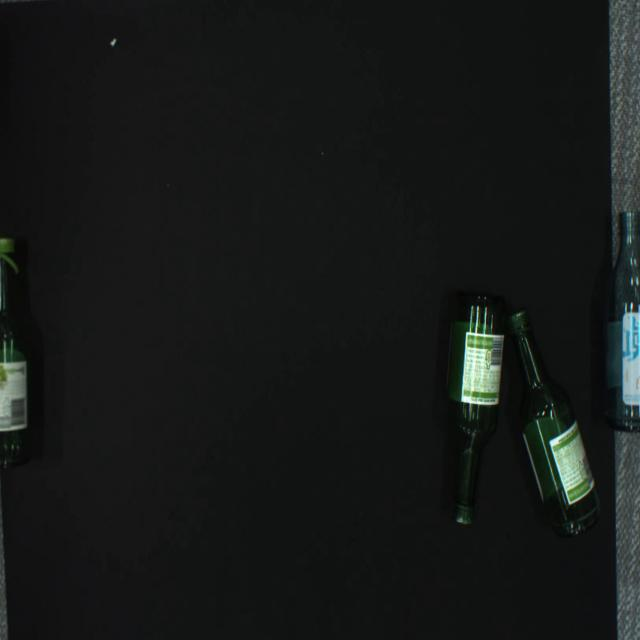soju-bottle: (506, 311, 601, 537), (445, 291, 506, 525), (603, 211, 640, 431), (0, 239, 29, 469)
